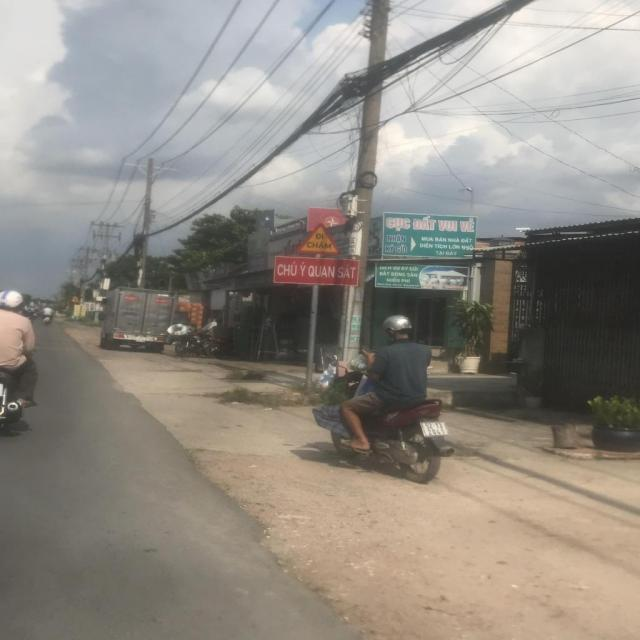di_cham: (293, 222, 343, 255)
giao_nhau_voi_duong_khong_uu_tien: (70, 295, 78, 302)
